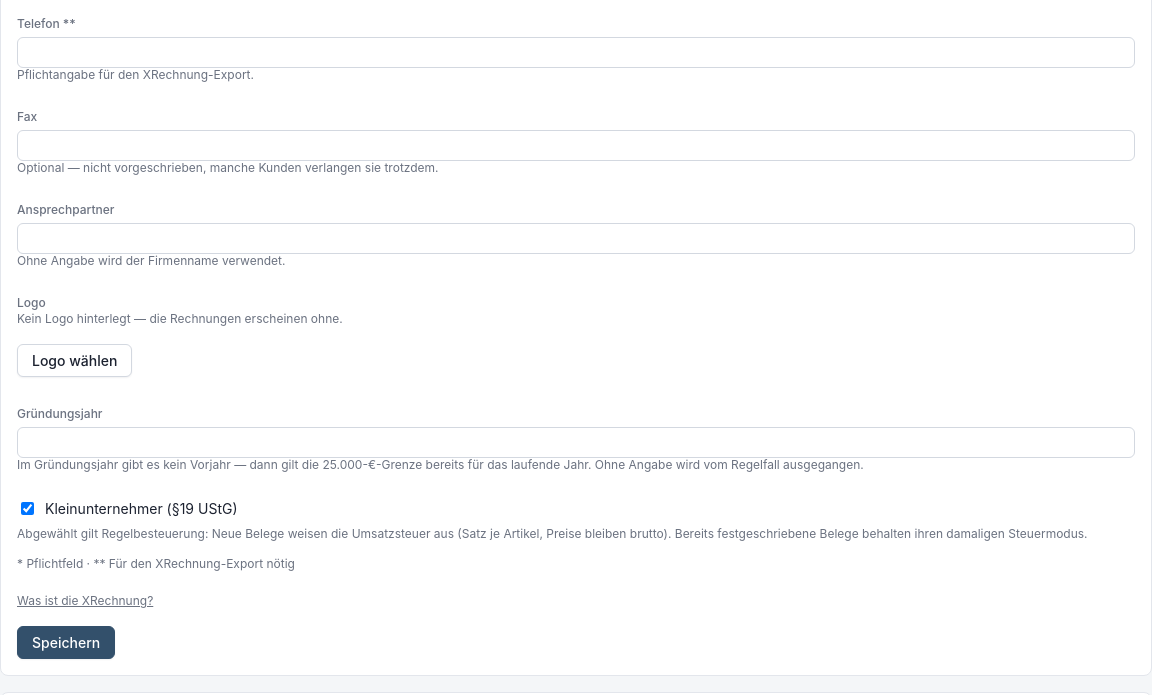
Test: Einstellungen › hinterlegt ein Logo und lässt es wieder entfernen
(page scrolled)
Expected: the text "Kein Logo hinterlegt — die Rechnungen erscheinen ohne." is shown, [17, 311, 343, 326]
Click the button "Logo wählen". click: (75, 360)
box: [17, 344, 132, 377]
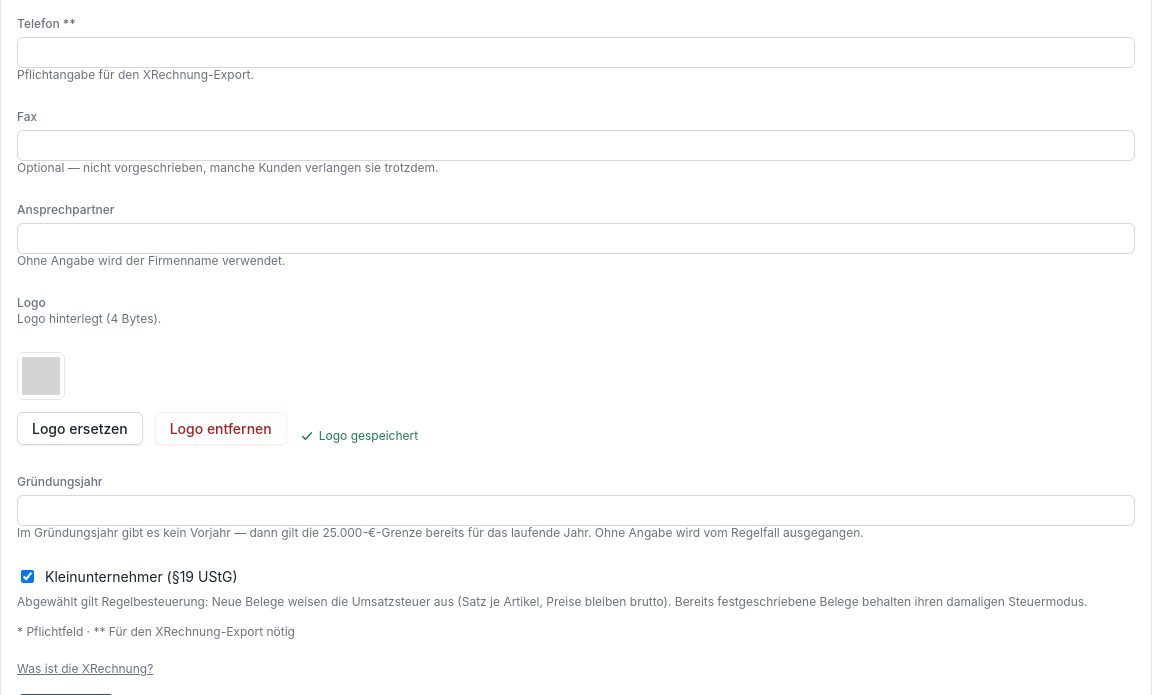
Now the button "Logo entfernen" is shown
Click the button "Logo entfernen". click: (221, 428)
box: [155, 412, 287, 445]
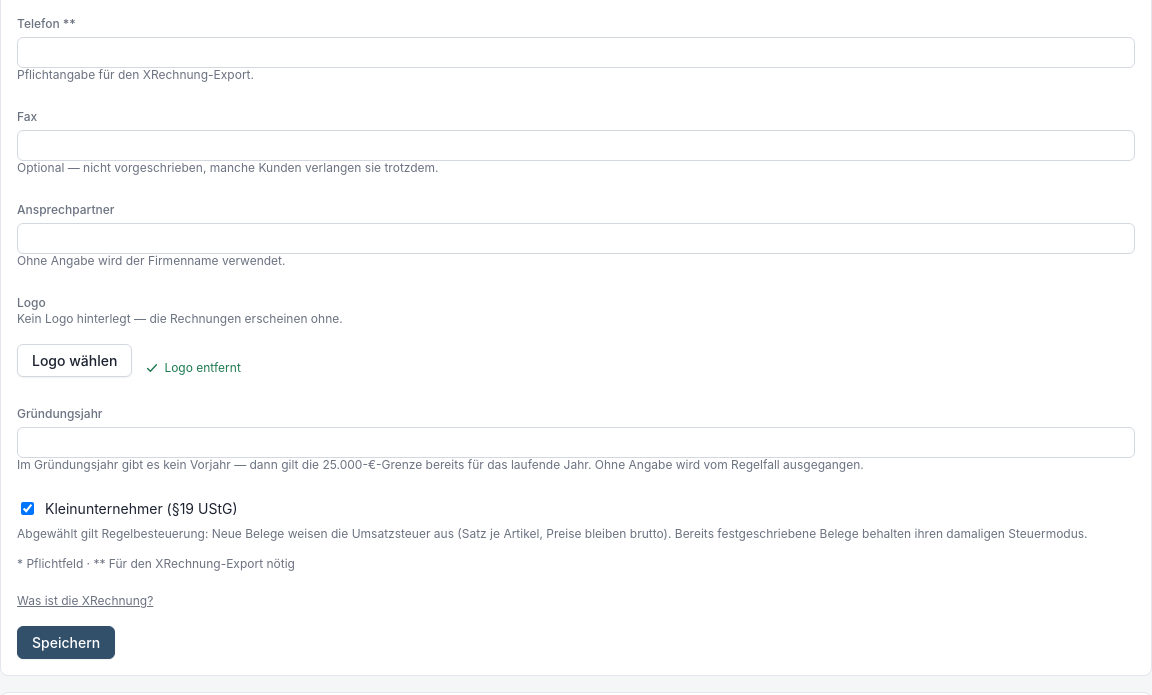
Now the text "Kein Logo hinterlegt — die Rechnungen erscheinen ohne." is shown, box [17, 311, 343, 326]
